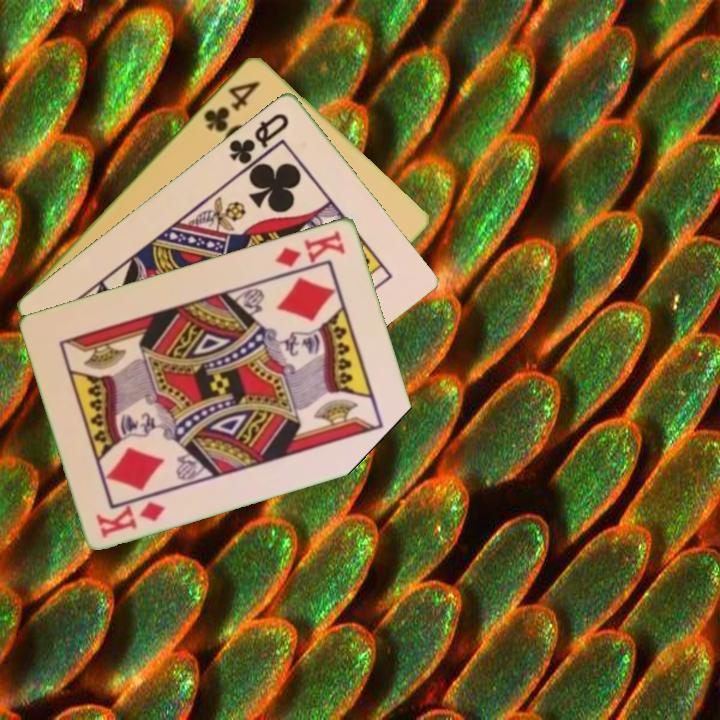4c: (200, 76, 263, 135)
Kd: (272, 226, 348, 270), (93, 497, 169, 540)
Qc: (225, 108, 292, 174)
